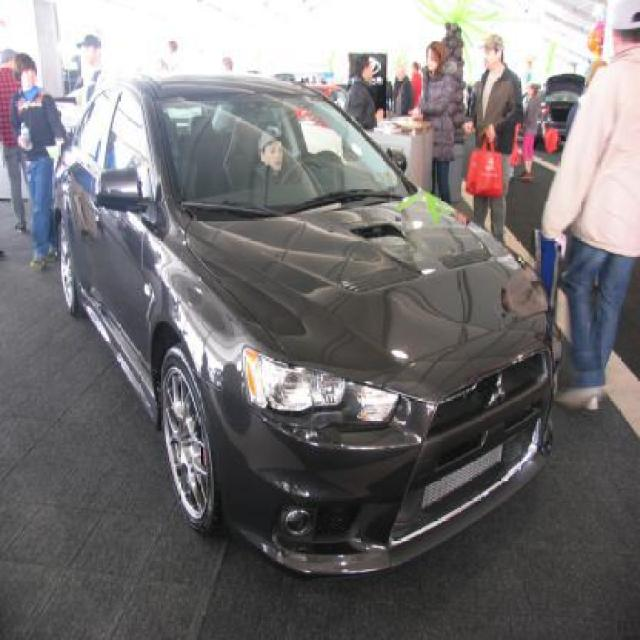Person: (536, 0, 638, 415), (8, 49, 67, 274), (460, 30, 523, 238), (408, 38, 458, 200), (0, 43, 23, 229), (343, 52, 382, 130), (72, 28, 110, 108), (252, 122, 300, 183), (522, 83, 548, 174), (388, 62, 414, 122), (160, 38, 186, 72), (412, 63, 420, 109), (218, 52, 237, 71)
